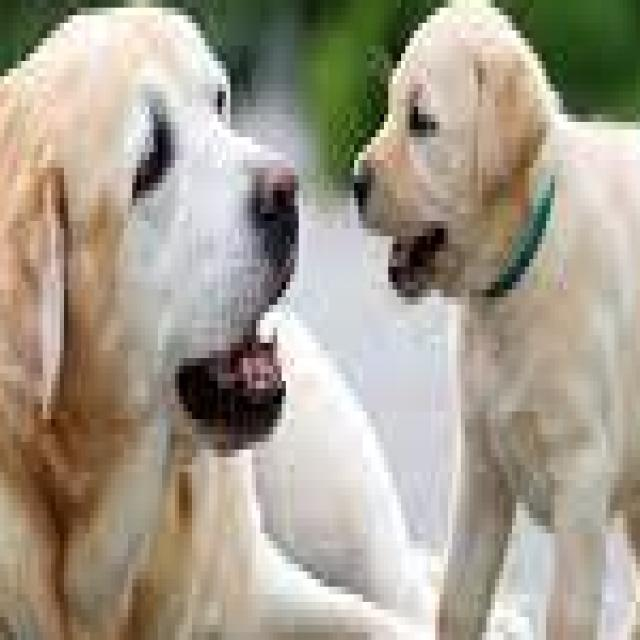dog: (0, 0, 422, 640), (315, 0, 640, 640)
